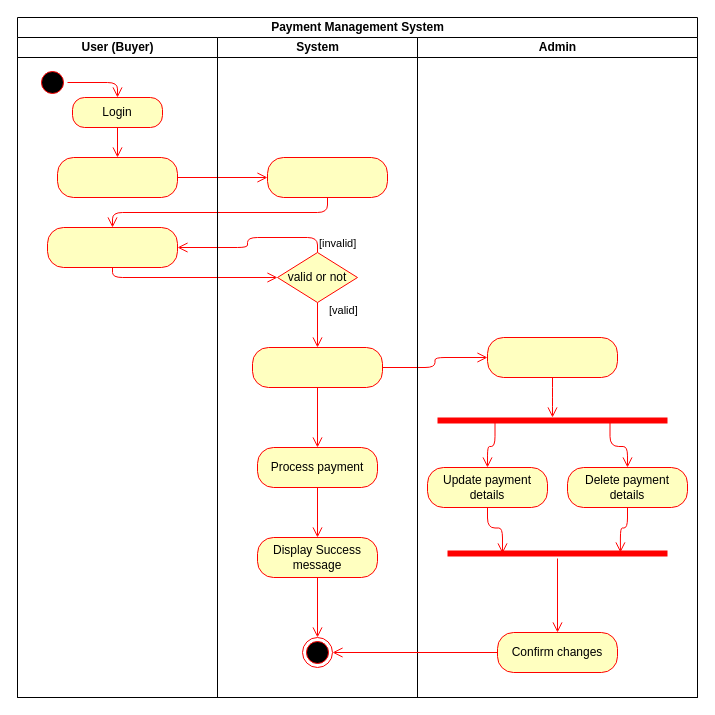
The diagram is 715 pixels wide and 715 high, and some of its shapes have lost their labels. Each missing label, with the centre of its shape:
"Click on Pay button" belongs at [117,177].
"Enter payment details" belongs at [112,247].
"Prompt user to enter payment details" belongs at [327,177].
"Save payment details" belongs at [317,367].
"View payment details" belongs at [552,357].
